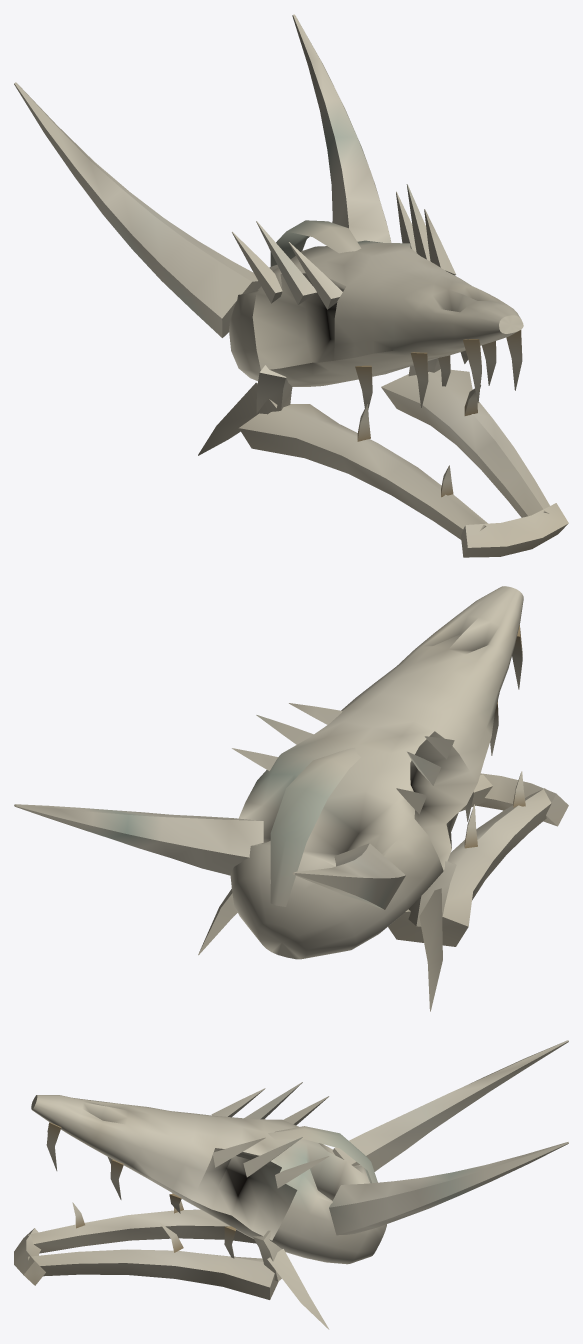
The model's file is giant_skull_lod2.glb.
The picture shows the model from 3 angles, top to bottom: view 1: azimuth 30°, elevation 25°; view 2: azimuth 150°, elevation 25°; view 3: azimuth 270°, elevation 25°; orthographic projection. The views are drawn at different scales.
Visible parts, largest first — view 1: GiantSkull; view 2: GiantSkull; view 3: GiantSkull.
Boxes of the visible parts, box(x1,y1,x2,y2) form: GiantSkull: box(14, 14, 568, 557); GiantSkull: box(14, 586, 568, 1011); GiantSkull: box(14, 1040, 568, 1329).
Bounding box in the file's own units: 7.27 × 6.48 × 16.59.
